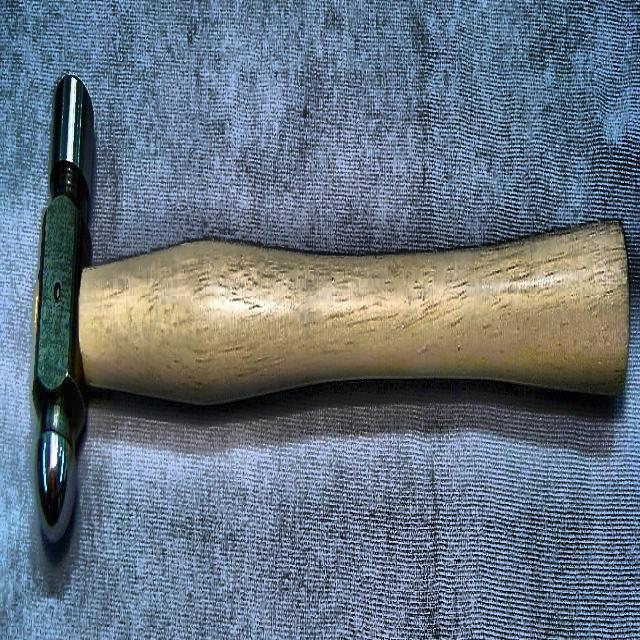hammer: (30, 70, 632, 577)
